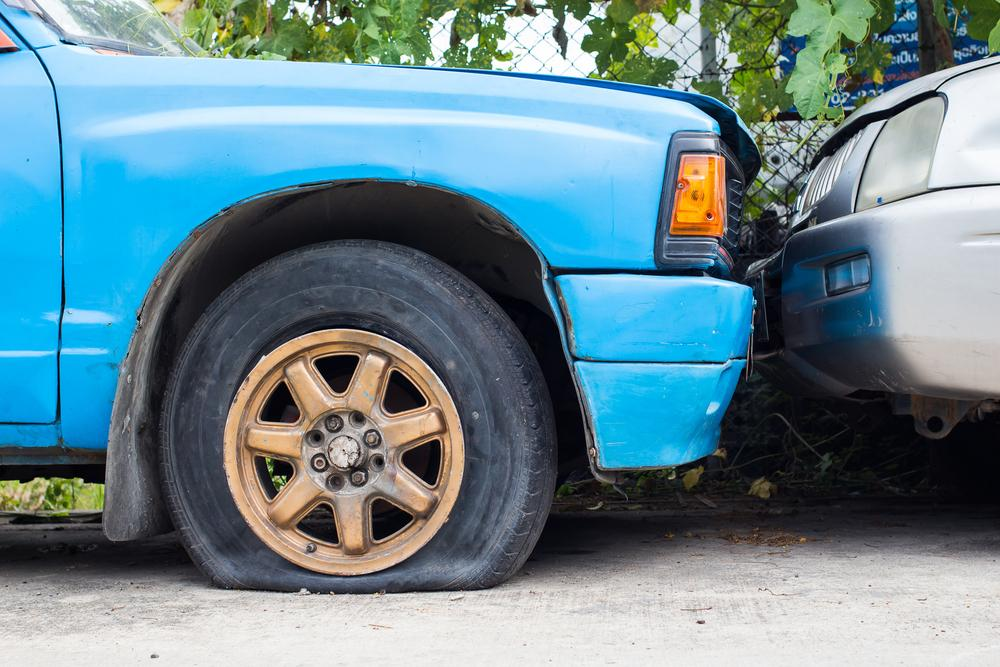tire flat: (163, 240, 561, 595)
